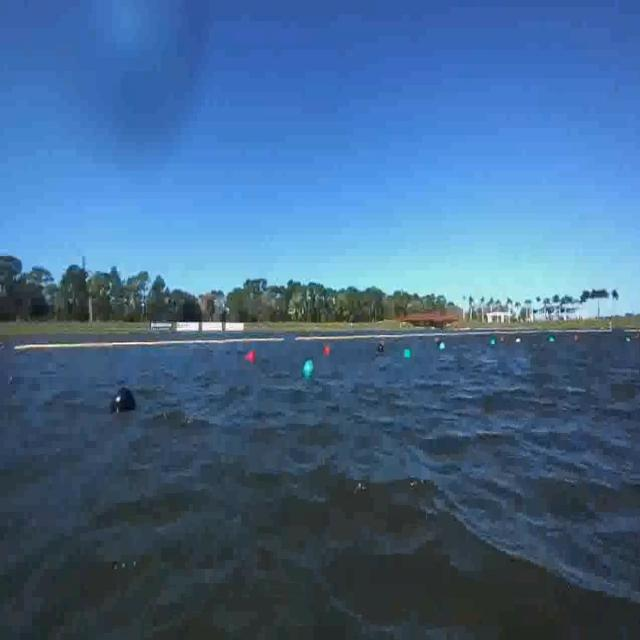black-buoy: (109, 383, 136, 413)
green-buoy: (302, 358, 313, 378)
red-buoy: (324, 340, 332, 358), (247, 351, 256, 363)
yellow-buoy: (485, 395, 495, 410)
